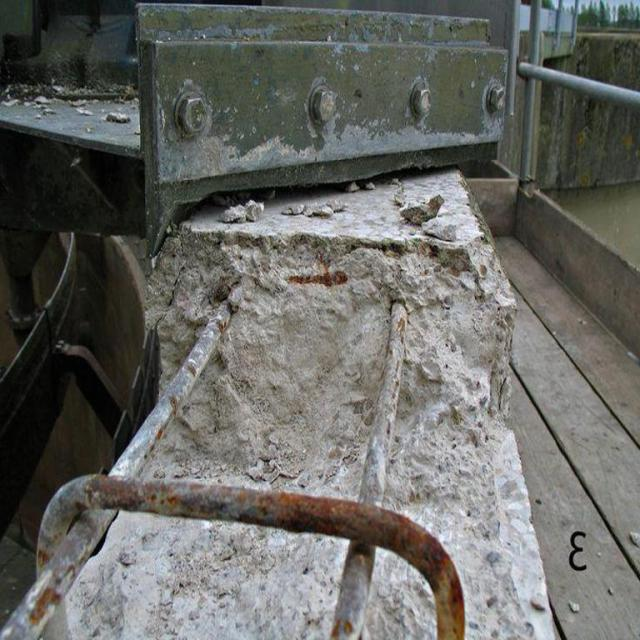spalling: (0, 222, 555, 638)
